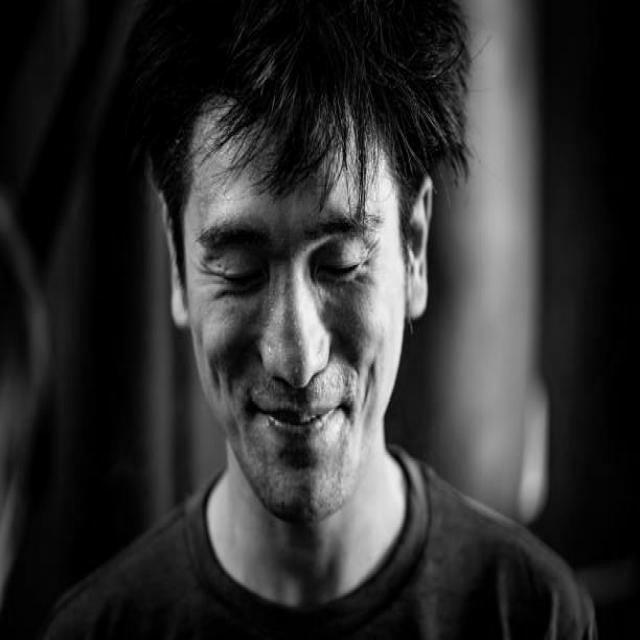real: (159, 75, 435, 528), (188, 208, 392, 303)
